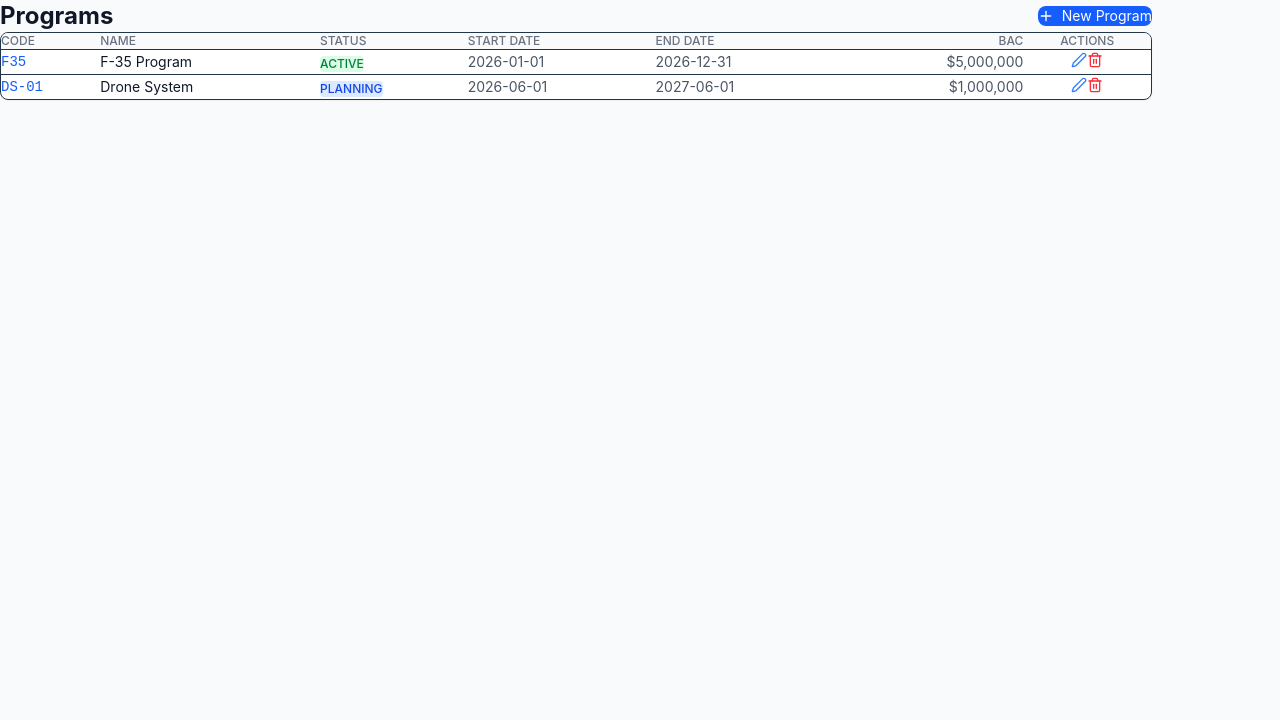
Test case: ProgramsPage › create new program › closes create modal when close button is clicked
The width and height of the screenshot is (1280, 720).
Click the button "New Program" at (1095, 16), box x1=1038 y1=6 x2=1152 y2=26
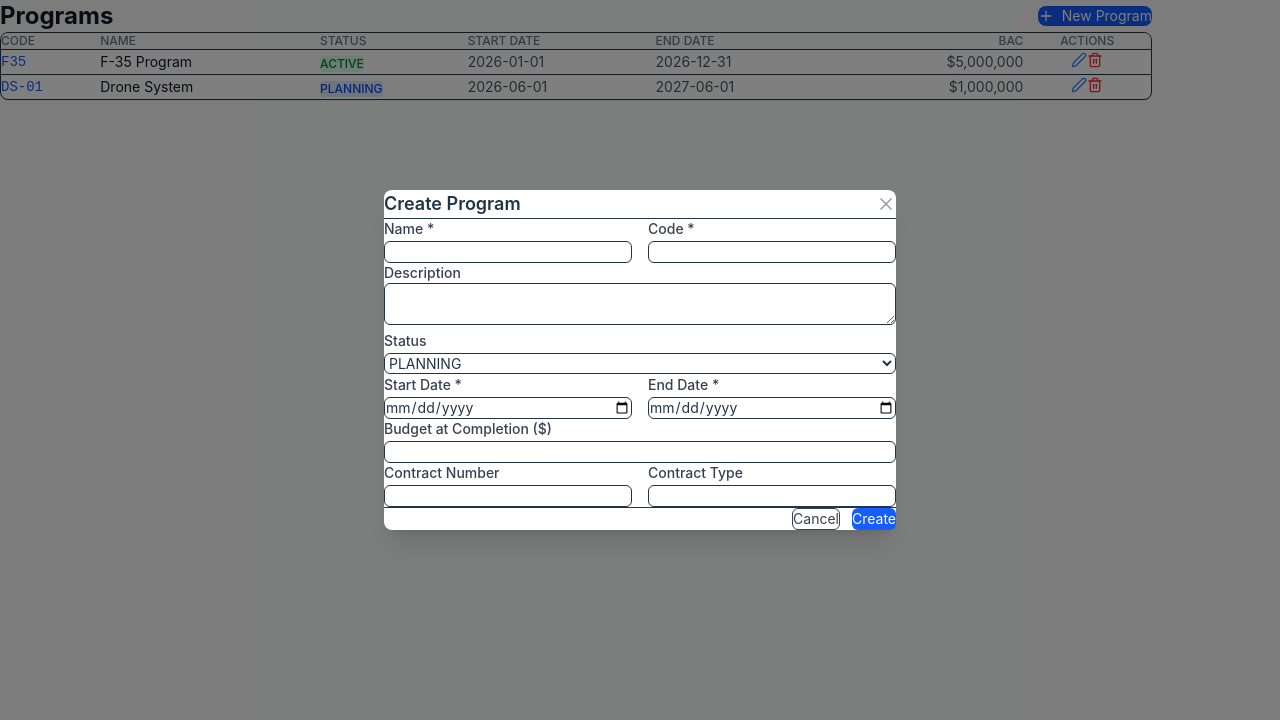
Result: the heading "Create Program" is shown at x1=384 y1=190 x2=521 y2=218
Click the button named "Close" at (886, 204), box x1=876 y1=194 x2=896 y2=214
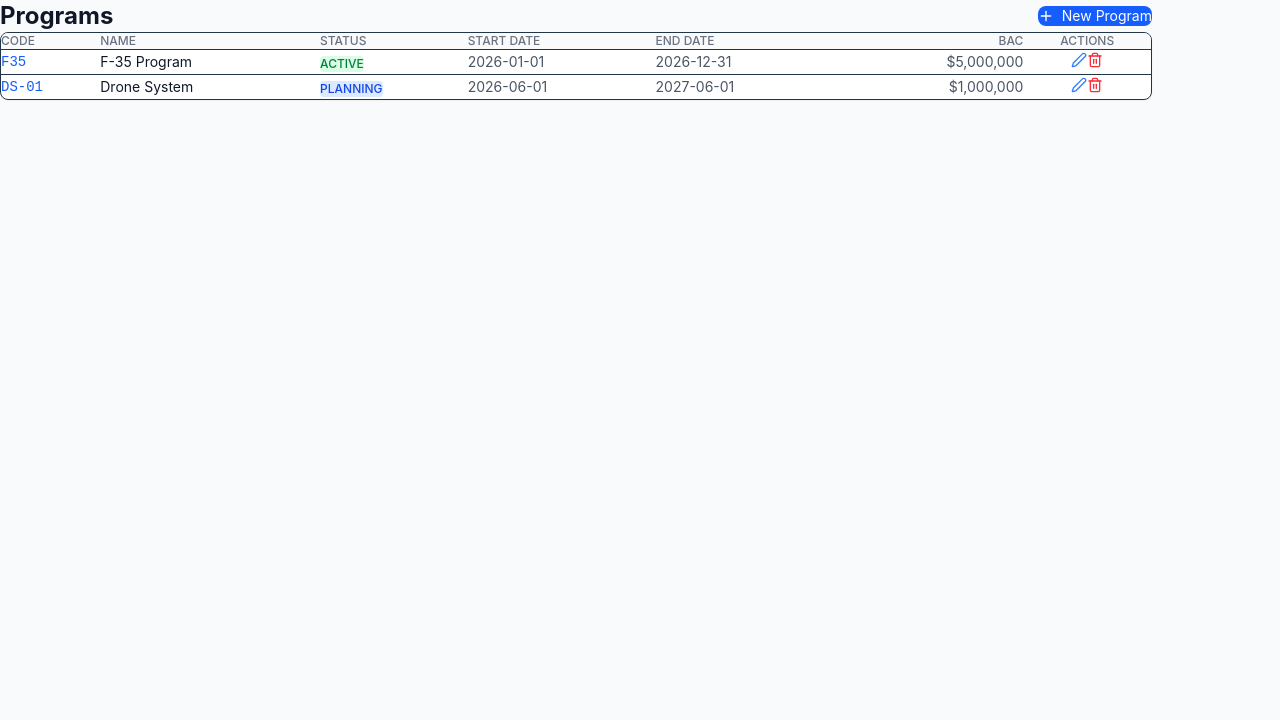
Result: the heading "Create Program" is gone
